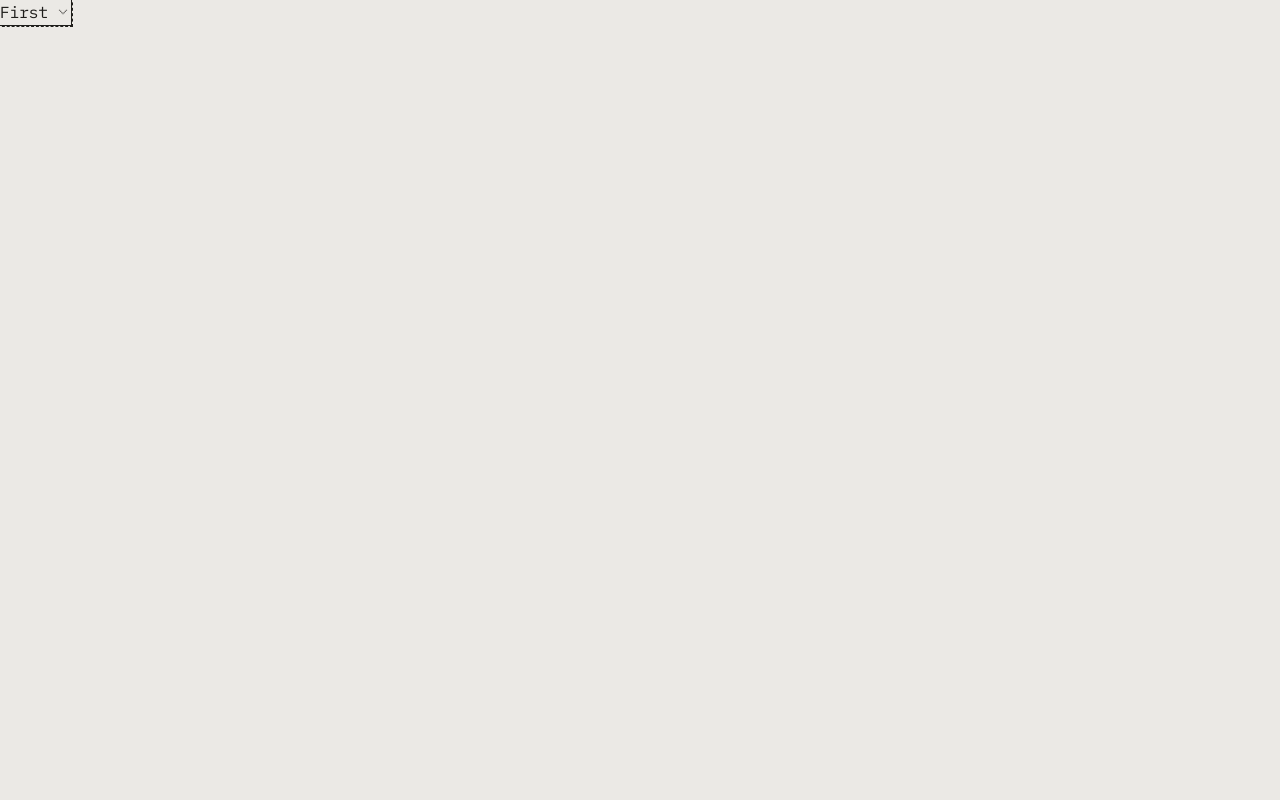
Test case: can move past an empty-valued option using the keyboard
Click the dropdown labelled "First": (35, 12) [0,0,70,24]
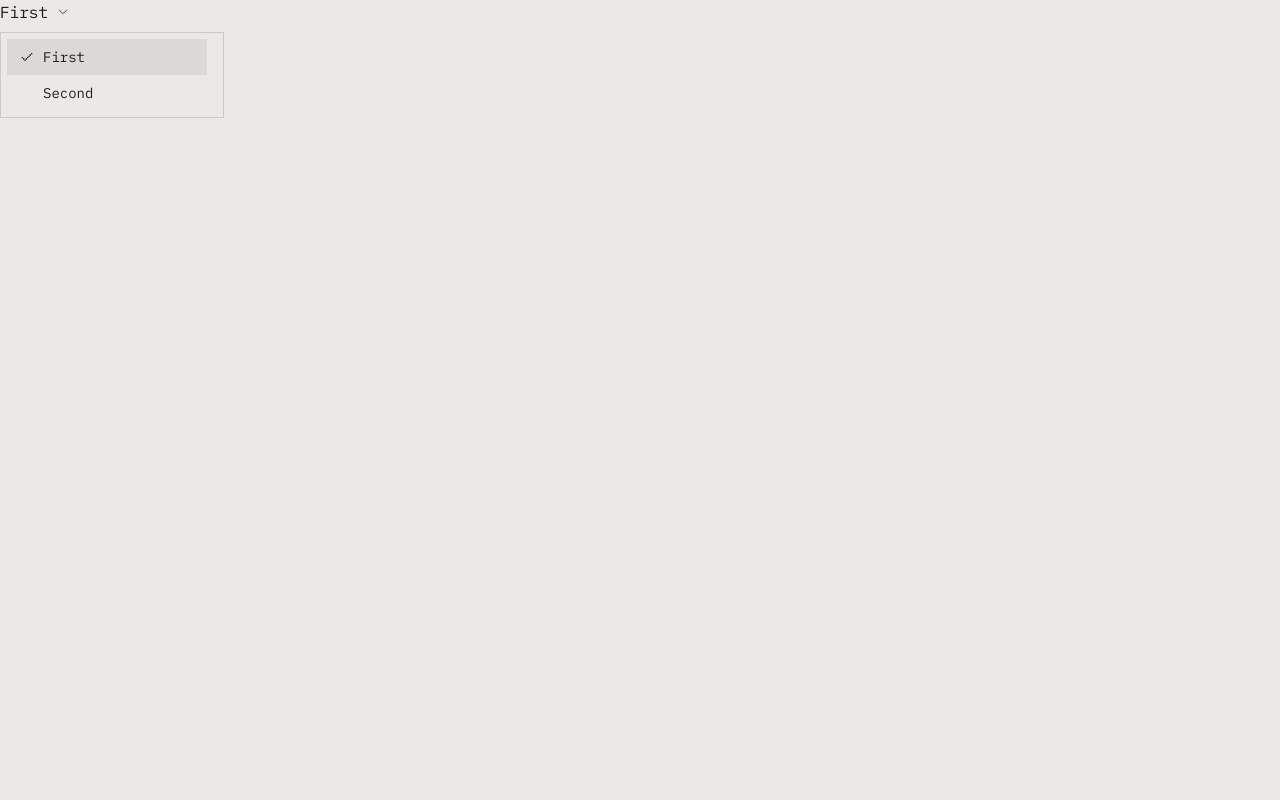
Press ArrowDown in the list, box [1,33,223,117]
Result: the option "Second" is shown at [7,75,207,111]
Press Enter in the list, box [1,33,223,117]
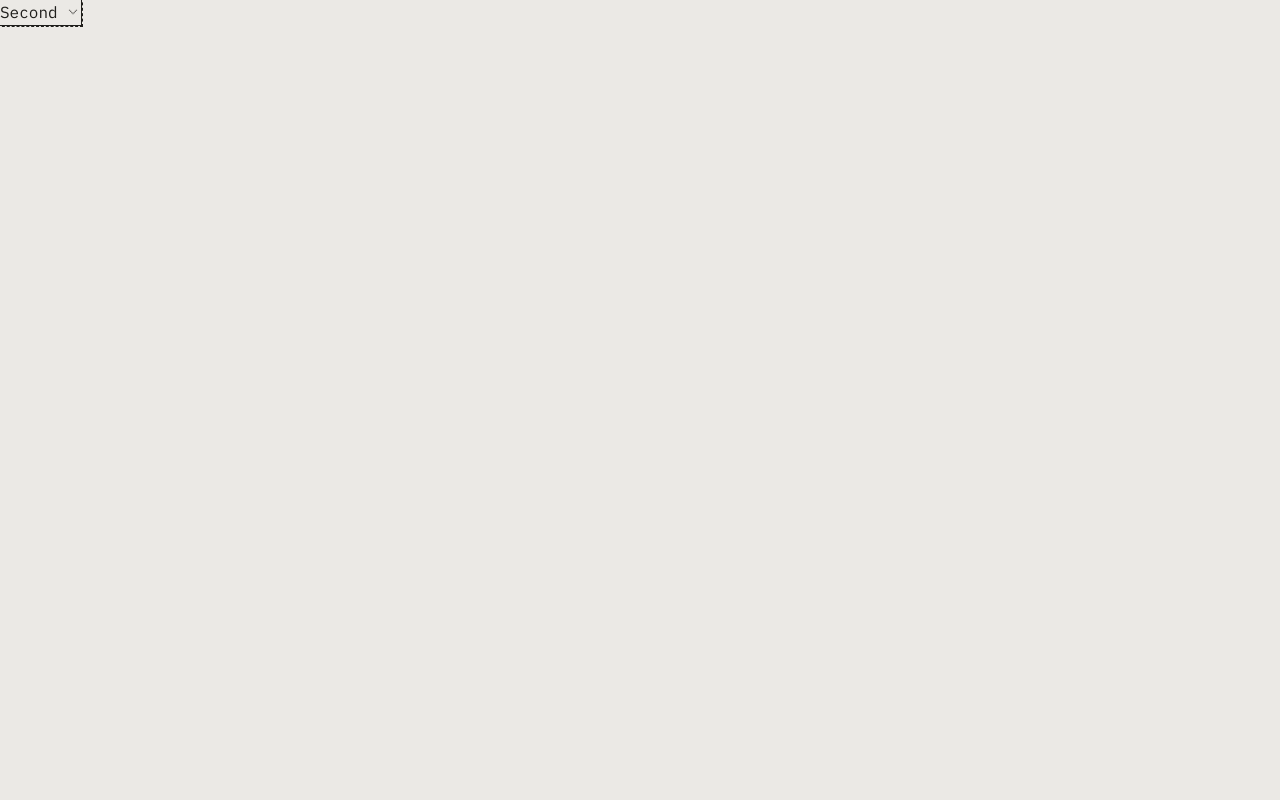
Result: the dropdown labelled "Second" is shown
Click the dropdown labelled "Second": (40, 12) [0,0,80,24]
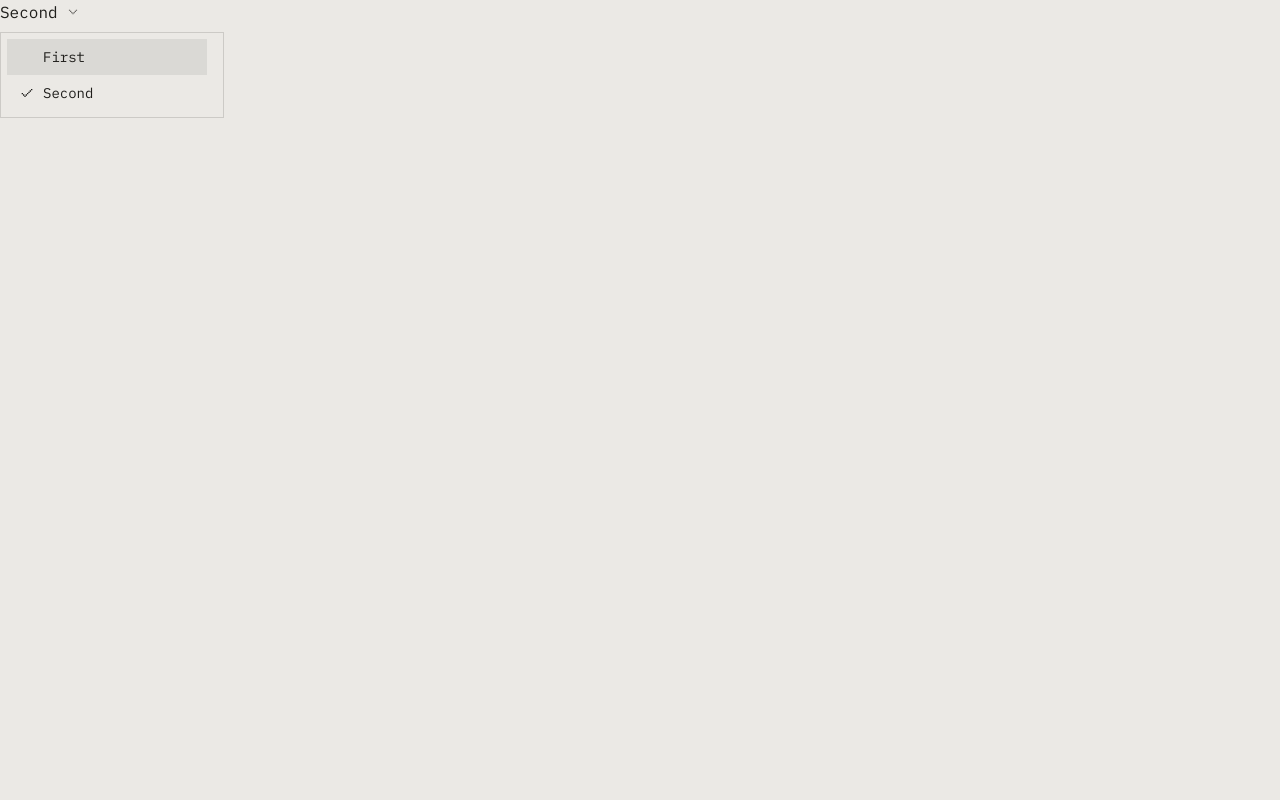
Press Home in the list, box [1,33,223,117]
Press Enter in the list, box [1,33,223,117]
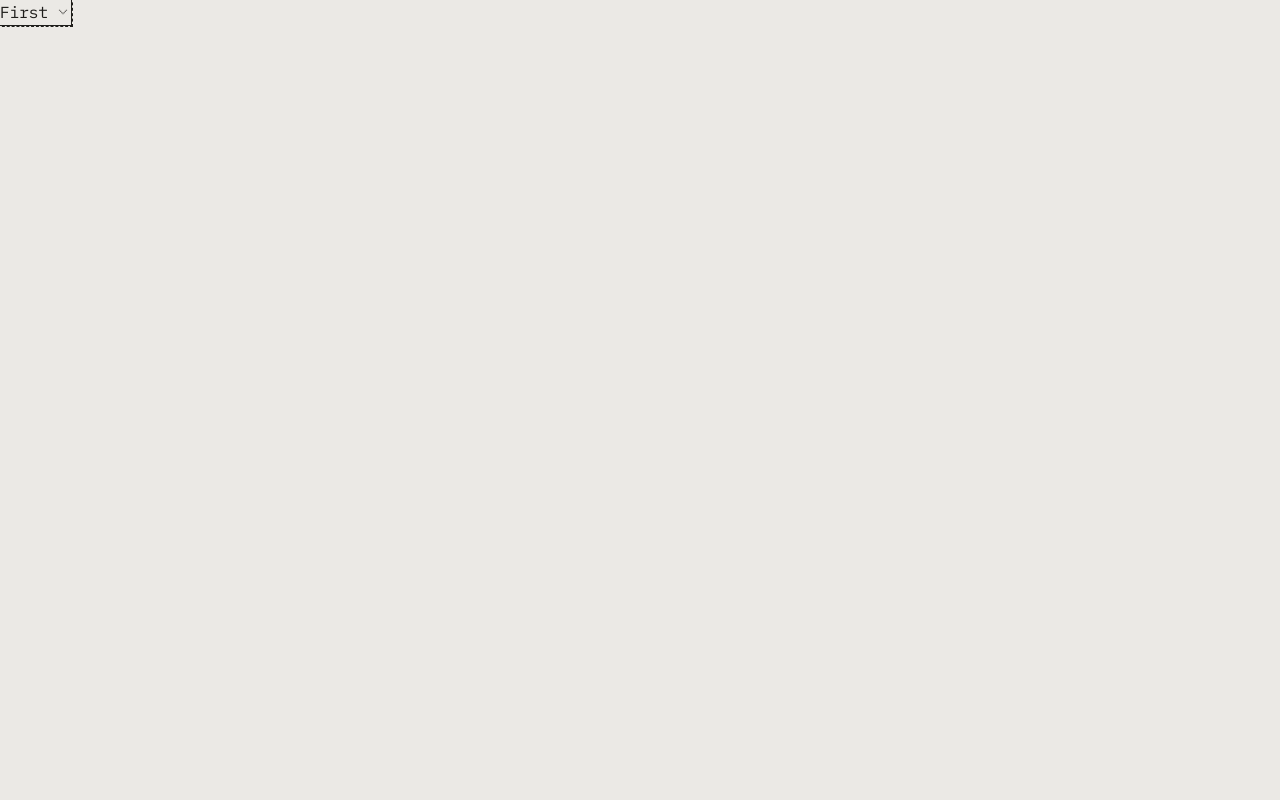
Result: the dropdown labelled "First" is shown at [0,0,70,24]
